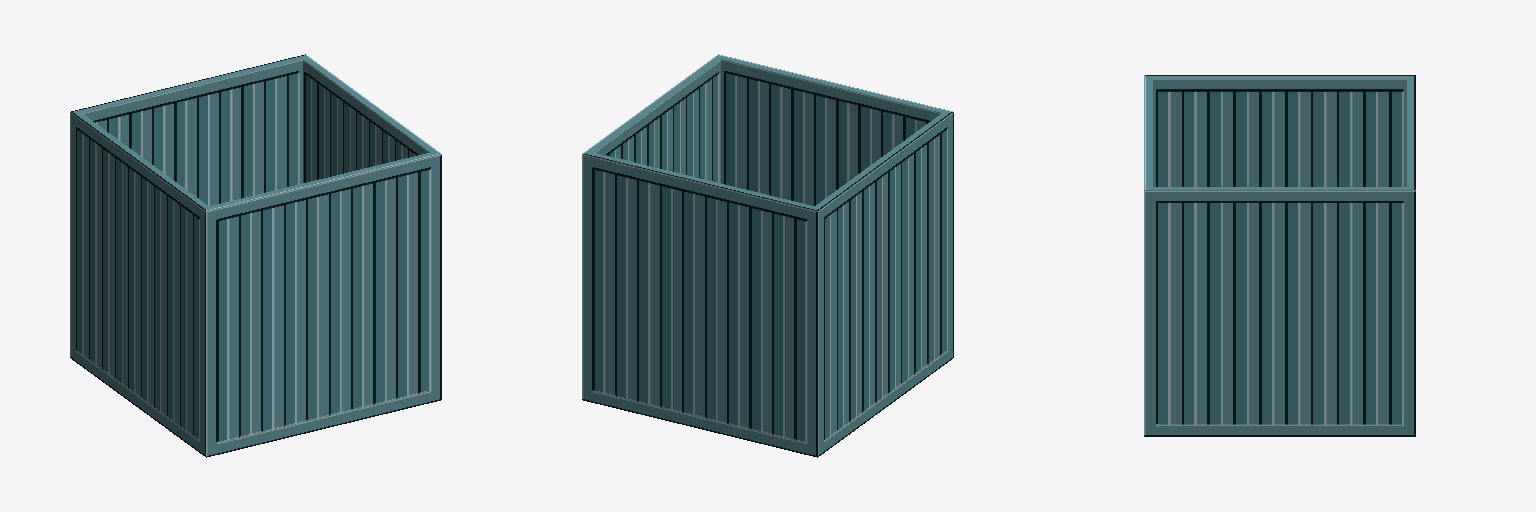
3 renders of one model, left to right at view 1: azimuth 30°, elevation 25°; view 2: azimuth 150°, elevation 25°; view 3: azimuth 270°, elevation 25°, orthographic.
Visible parts, largest first — view 1: ContainerBody; view 2: ContainerBody; view 3: ContainerBody.
Boxes of the visible parts, x1,y1,x2,y2 form: ContainerBody: [70, 54, 441, 457]; ContainerBody: [582, 54, 953, 457]; ContainerBody: [1144, 75, 1415, 436].
Bounding box in the file's own units: 1 × 1 × 1.
Materials: 1 (1 with a texture image).